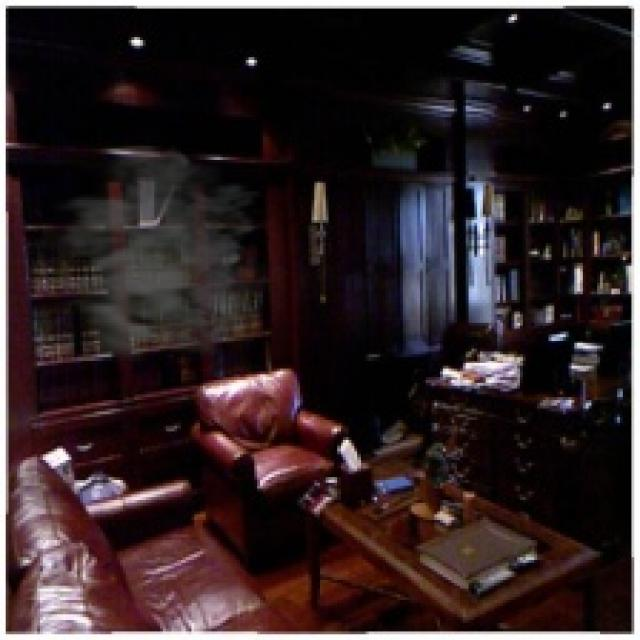smoke: (43, 146, 286, 377)
